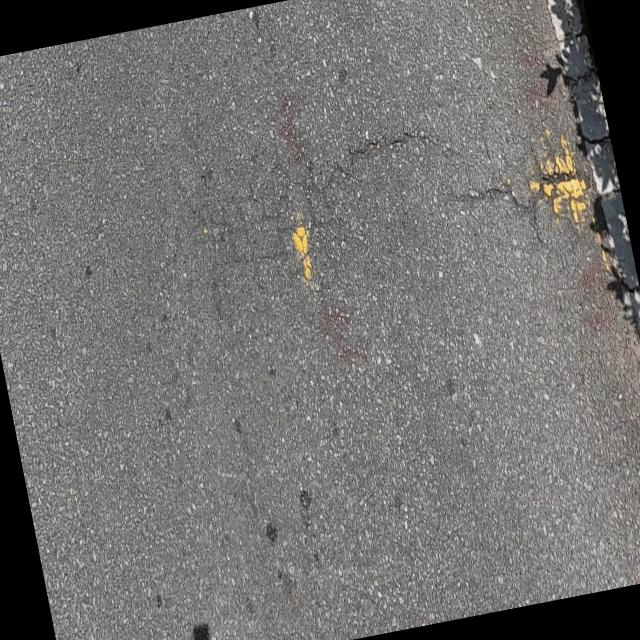Retak-Buaya: (204, 156, 319, 270)
Retak-Melintang: (322, 126, 436, 192), (449, 168, 579, 216)
